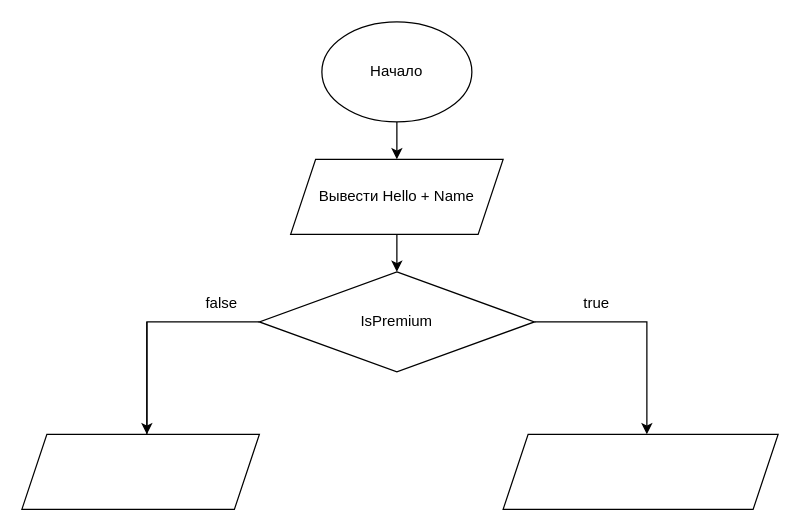
Image size: 800x531. Some labels were removed from this diagram. Here are the shapes that lost their labels. From the top down, the box of each, then its label:
(21, 433, 259, 509): Вывести ShowAds
(502, 433, 778, 509): Вывести У вас есть премиум подписка , программа завершена
